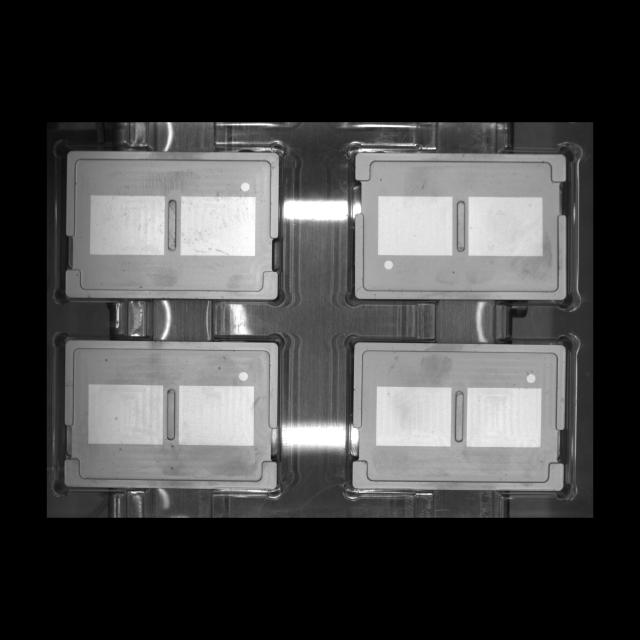product: (53, 136, 292, 309), (51, 328, 285, 500), (342, 141, 577, 310), (343, 330, 576, 500)
